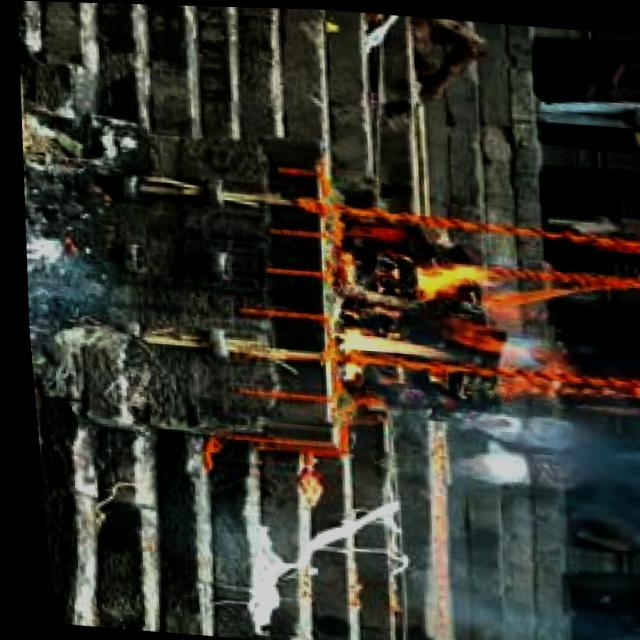helmet: (322, 247, 569, 377)
